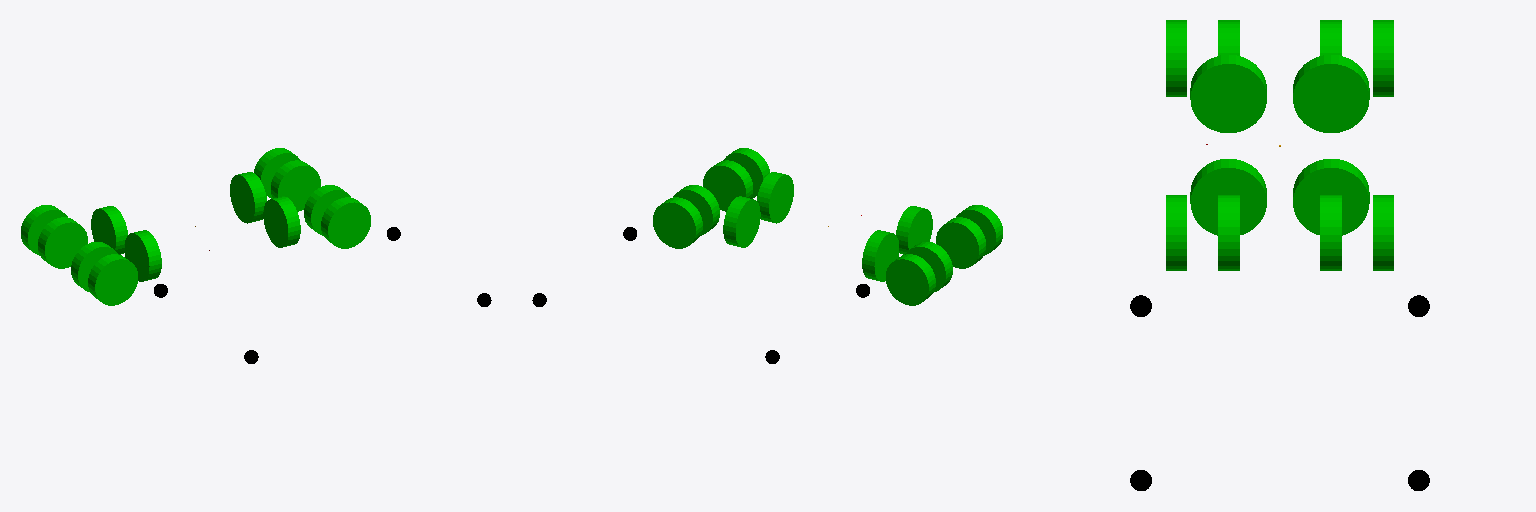
--- Facts derived from the render (not from the file) ---
3 views of the same robot in one strip: view 1: azimuth 30°, elevation 25°; view 2: azimuth 150°, elevation 25°; view 3: azimuth 270°, elevation 25° (orthographic).
Robot: go1 — 31 links, 30 joints (12 revolute, 18 fixed); root link base; default pose: joints at zero except 4 at the middle of their limits (FR_calf_joint = -1.85, FL_calf_joint = -1.85, RR_calf_joint = -1.85, RL_calf_joint = -1.85).
Links seen in each view (by area): view 1: FR_calf_rotor, RR_calf_rotor, RL_thigh_rotor, FL_thigh_rotor, FR_hip_rotor, FL_hip_rotor, RR_hip_rotor, RL_hip_rotor, RR_thigh_rotor, FR_thigh_rotor, RL_calf_rotor, FL_calf_rotor; view 2: FL_calf_rotor, RL_calf_rotor, RR_thigh_rotor, FR_thigh_rotor, FL_hip_rotor, FR_hip_rotor, RL_hip_rotor, RR_hip_rotor, RL_thigh_rotor, FL_thigh_rotor, RR_calf_rotor, FR_calf_rotor; view 3: RR_hip_rotor, RL_hip_rotor, FR_hip_rotor, FL_hip_rotor, FR_thigh_rotor, FL_thigh_rotor, RR_calf_rotor, RL_calf_rotor, FR_calf_rotor, FL_calf_rotor, RR_thigh_rotor, RL_thigh_rotor.
Boxes of the visible links, x1,y1,x2,y2 form: FR_calf_rotor: [321, 197, 370, 248]; RR_calf_rotor: [88, 254, 137, 305]; RL_thigh_rotor: [38, 217, 87, 268]; FL_thigh_rotor: [271, 160, 320, 211]; FR_hip_rotor: [263, 196, 300, 247]; FL_hip_rotor: [230, 172, 266, 223]; RR_hip_rotor: [125, 230, 161, 281]; RL_hip_rotor: [91, 206, 127, 254]; RR_thigh_rotor: [71, 242, 118, 292]; FR_thigh_rotor: [304, 185, 350, 235]; RL_calf_rotor: [21, 205, 67, 255]; FL_calf_rotor: [254, 148, 300, 198]; FL_calf_rotor: [653, 197, 702, 248]; RL_calf_rotor: [886, 254, 935, 305]; RR_thigh_rotor: [936, 217, 985, 268]; FR_thigh_rotor: [703, 160, 752, 211]; FL_hip_rotor: [723, 196, 760, 247]; FR_hip_rotor: [757, 172, 793, 223]; RL_hip_rotor: [862, 230, 898, 281]; RR_hip_rotor: [896, 206, 932, 254]; RL_thigh_rotor: [905, 242, 952, 292]; FL_thigh_rotor: [673, 185, 719, 235]; RR_calf_rotor: [956, 205, 1002, 255]; FR_calf_rotor: [723, 148, 769, 198]; RR_hip_rotor: [1190, 55, 1266, 132]; RL_hip_rotor: [1293, 55, 1369, 132]; FR_hip_rotor: [1190, 159, 1266, 235]; FL_hip_rotor: [1293, 159, 1369, 235]; FR_thigh_rotor: [1218, 195, 1239, 270]; FL_thigh_rotor: [1320, 195, 1341, 270]; RR_calf_rotor: [1166, 20, 1186, 96]; RL_calf_rotor: [1373, 20, 1393, 96]; FR_calf_rotor: [1166, 195, 1186, 270]; FL_calf_rotor: [1373, 195, 1393, 270]; RR_thigh_rotor: [1218, 20, 1239, 55]; RL_thigh_rotor: [1320, 20, 1341, 55].
Bounding box of the posed robot: 0.6257 × 0.2735 × 0.1986 m (x, y, z).
0 mesh visuals loaded from 5 distinct referenced files (none loaded); not drawn: 13 (reference not matched to a file when rendering).

robot.urdf — go1:
<?xml version="1.0" ?>
<robot name="go1" xmlns:xacro="http://www.ros.org/wiki/xacro">
  <material name="black">
    <color rgba="0.0 0.0 0.0 1.0"/>
  </material>
  <material name="blue">
    <color rgba="0.0 0.0 0.8 1.0"/>
  </material>
  <material name="green">
    <color rgba="0.0 0.8 0.0 1.0"/>
  </material>
  <material name="grey">
    <color rgba="0.2 0.2 0.2 1.0"/>
  </material>
  <material name="silver">
    <color rgba="0.9137254901960784 0.913725491960784 0.8470588235294118 1.0"/>
  </material>
  <material name="orange">
    <color rgba="1.0 0.4235294117647059 0.0392156862745098 1.0"/>
  </material>
  <material name="brown">
    <color rgba="0.8705882352941177 0.8117647058823529 0.7647058823529411 1.0"/>
  </material>
  <material name="red">
    <color rgba="0.8 0.0 0.0 1.0"/>
  </material>
  <material name="white">
    <color rgba="1.0 1.0 1.0 1.0"/>
  </material>

  <link name="base">
    <visual>
      <origin rpy="0 0 0" xyz="0 0 0"/>
      <geometry>
        <box size="0.001 0.001 0.001"/>
      </geometry>
    </visual>
  </link>
  <joint name="floating_base" type="fixed">
    <origin rpy="0 0 0" xyz="0 0 0"/>
    <parent link="base"/>
    <child link="trunk"/>
  </joint>
  <link name="trunk">
    <visual>
      <!-- <origin rpy="-1.57079632679 0 0" xyz="0 0 0"/> -->
      <origin rpy="0 0 0" xyz="0 0 0"/>
      <geometry>
        <mesh filename="../meshes/trunk.stl" scale="1 1 1"/>
      </geometry>
      <material name="silver"/>
    </visual>
    <collision>
      <origin rpy="0 0 0" xyz="0 0 0"/>
      <geometry>
        <box size="0.3762 0.0935 0.114"/>
      </geometry>
    </collision>
    <inertial>
      <origin rpy="0 0 0" xyz="0.0223 0.002 -0.0005"/>
      <mass value="5.204"/>
      <inertia ixx="0.0168128557" ixy="-0.0002296769" ixz="-0.0002945293" iyy="0.063009565" iyz="-4.18731e-05" izz="0.0716547275"/>
    </inertial>
  </link>
  <joint name="imu_joint" type="fixed">
    <parent link="trunk"/>
    <child link="imu_link"/>
    <origin rpy="0 0 0" xyz="-0.01592 -0.06659 -0.00617"/>
  </joint>
  <link name="imu_link">
    <inertial>
      <mass value="0.001"/>
      <origin rpy="0 0 0" xyz="0 0 0"/>
      <inertia ixx="0.0001" ixy="0" ixz="0" iyy="0.0001" iyz="0" izz="0.0001"/>
    </inertial>
    <visual>
      <origin rpy="0 0 0" xyz="0 0 0"/>
      <geometry>
        <box size="0.001 0.001 0.001"/>
      </geometry>
      <material name="red"/>
    </visual>
    <!-- <collision>
      <origin rpy="0 0 0" xyz="0 0 0"/>
      <geometry>
        <box size=".001 .001 .001"/>
      </geometry>
    </collision> -->
  </link>
  <joint name="FR_hip_joint" type="revolute">
    <origin rpy="0 0 0" xyz="0.1881 -0.04675 0"/>
    <parent link="trunk"/>
    <child link="FR_hip"/>
    <axis xyz="1 0 0"/>
    <dynamics damping="0.01" friction="0.2"/>
    <limit effort="23.7" lower="-0.863" upper="0.863" velocity="30.1"/>
  </joint>
  <joint name="FR_hip_rotor_joint" type="fixed">
    <origin rpy="0 0 0" xyz="0.11215 -0.04675 0"/>
    <parent link="trunk"/>
    <child link="FR_hip_rotor"/>
  </joint>
  <link name="FR_hip">
    <visual>
      <!-- <origin rpy="1.57079632679 0 0" xyz="0 0 0"/> -->
      <origin rpy="3.14159265358 0 0" xyz="0 0 0"/>
      <geometry>
        <mesh filename="../meshes/hip.stl" scale="1 1 1"/>
      </geometry>
      <material name="silver"/>
    </visual>
    <collision>
      <origin rpy="1.5707963267948966 0 0" xyz="0 -0.08 0"/>
      <geometry>
        <cylinder length="0.04" radius="0.046"/>
      </geometry>
    </collision>
    <inertial>
      <origin rpy="0 0 0" xyz="-0.005657 0.008752 -0.000102"/>
      <mass value="0.591"/>
      <inertia ixx="0.000334008405" ixy="1.0826066e-05" ixz="1.290732e-06" iyy="0.000619101213" iyz="-1.643194e-06" izz="0.00040057614"/>
    </inertial>
  </link>
  <link name="FR_hip_rotor">
    <visual>
      <origin rpy="0 1.5707963267948966 0" xyz="0 0 0"/>
      <geometry>
        <cylinder length="0.02" radius="0.035"/>
      </geometry>
      <material name="green"/>
    </visual>
    <!-- <collision>
      <origin rpy="0 1.5707963267948966 0" xyz="0 0 0"/>
      <geometry>
        <cylinder length="0.02" radius="0.035"/>
      </geometry>
    </collision> -->
    <inertial>
      <origin rpy="0 0 0" xyz="0.0 0.0 0.0"/>
      <mass value="0.089"/>
      <inertia ixx="0.000111842" ixy="0.0" ixz="0.0" iyy="5.9647e-05" iyz="0.0" izz="5.9647e-05"/>
    </inertial>
  </link>
  <joint name="FR_thigh_joint" type="revolute">
    <origin rpy="0 0 0" xyz="0 -0.08 0"/>
    <parent link="FR_hip"/>
    <child link="FR_thigh"/>
    <axis xyz="0 1 0"/>
    <dynamics damping="0.01" friction="0.2"/>
    <limit effort="23.7" lower="-0.686" upper="4.501" velocity="30.1"/>
  </joint>
  <joint name="FR_thigh_rotor_joint" type="fixed">
    <origin rpy="0 0 0" xyz="0.0 0.00015 0"/>
    <parent link="FR_hip"/>
    <child link="FR_thigh_rotor"/>
  </joint>
  <link name="FR_thigh">
    <visual>
      <!-- <origin rpy="-1.57079632679 0 0" xyz="0 0 0"/> -->
      <origin rpy="0 0 0" xyz="0 0 0"/>
      <geometry>
        <mesh filename="../meshes/thigh_mirror.stl" scale="1 1 1"/>
      </geometry>
      <material name="silver"/>
    </visual>
    <collision>
      <origin rpy="0 1.5707963267948966 0" xyz="0 0 -0.1065"/>
      <geometry>
        <box size="0.213 0.0245 0.034"/>
      </geometry>
    </collision>
    <inertial>
        <origin rpy="0 0 0" xyz="-0.003342 0.018054 -0.033451"/>
        <mass value="0.92"/>
        <inertia ixx="0.004431760472" ixy="-5.7496807e-05" ixz="-0.000218457134" iyy="0.004485671726" iyz="-0.000572001265" izz="0.000740309489"/>
    </inertial>
  </link>
  <link name="FR_thigh_rotor">
    <visual>
      <origin rpy="1.5707963267948966 0 0" xyz="0 0 0"/>
      <geometry>
        <cylinder length="0.02" radius="0.035"/>
      </geometry>
      <material name="green"/>
    </visual>
    <!-- <collision>
      <origin rpy="1.5707963267948966 0 0" xyz="0 0 0"/>
      <geometry>
        <cylinder length="0.02" radius="0.035"/>
      </geometry>
    </collision> -->
    <inertial>
      <origin rpy="0 0 0" xyz="0.0 0.0 0.0"/>
      <mass value="0.089"/>
      <inertia ixx="5.9647e-05" ixy="0.0" ixz="0.0" iyy="0.000111842" iyz="0.0" izz="5.9647e-05"/>
    </inertial>
  </link>
  <joint name="FR_calf_joint" type="revolute">
    <origin rpy="0 0 0" xyz="0 0 -0.213"/>
    <parent link="FR_thigh"/>
    <child link="FR_calf"/>
    <axis xyz="0 1 0"/>
    <dynamics damping="0.01" friction="0.2"/>
    <limit effort="35.55" lower="-2.818" upper="-0.888" velocity="20.06"/>
  </joint>
  <joint name="FR_calf_rotor_joint" type="fixed">
    <origin rpy="0 0 0" xyz="0.0 0.03235 0"/>
    <parent link="FR_thigh"/>
    <child link="FR_calf_rotor"/>
  </joint>
  <link name="FR_calf">
    <visual>
      <!-- <origin rpy="-1.57079632679 0 0" xyz="0 0 0"/> -->
      <origin rpy="0 0 0" xyz="0 0 0"/>
      <geometry>
        <mesh filename="../meshes/calf.stl" scale="1 1 1"/>
      </geometry>
      <material name="black"/>
    </visual>
    <collision>
      <origin rpy="0 1.5707963267948966 0" xyz="0 0 -0.1065"/>
      <geometry>
        <box size="0.213 0.016 0.016"/>
      </geometry>
    </collision>
    <inertial>
      <origin rpy="0 0 0" xyz="0.006197 0.001408 -0.116695"/>
      <mass value="0.135862"/>
      <inertia ixx="0.001088793059" ixy="-2.55679e-07" ixz="7.117814e-06" iyy="0.001100428748" iyz="2.077264e-06" izz="2.4787446e-05"/>
    </inertial>
  </link>
  <link name="FR_calf_rotor">
    <visual>
      <origin rpy="1.5707963267948966 0 0" xyz="0 0 0"/>
      <geometry>
        <cylinder length="0.02" radius="0.035"/>
      </geometry>
      <material name="green"/>
    </visual>
    <!-- <collision>
      <origin rpy="1.5707963267948966 0 0" xyz="0 0 0"/>
      <geometry>
        <cylinder length="0.02" radius="0.035"/>
      </geometry>
    </collision> -->
    <inertial>
      <origin rpy="0 0 0" xyz="0.0 0.0 0.0"/>
      <mass value="0.089"/>
      <inertia ixx="5.9647e-05" ixy="0.0" ixz="0.0" iyy="0.000111842" iyz="0.0" izz="5.9647e-05"/>
    </inertial>
  </link>
  <joint name="FR_foot_fixed" type="fixed" dont_collapse="true">
    <origin rpy="0 0 0" xyz="0 0 -0.213"/>
    <parent link="FR_calf"/>
    <child link="FR_foot"/>
  </joint>
  <link name="FR_foot">
    <visual>
      <origin rpy="0 0 0" xyz="0 0 0"/>
      <geometry>
        <sphere radius="0.01"/>
      </geometry>
      <material name="black"/>
    </visual>
    <collision>
      <origin rpy="0 0 0" xyz="0 0 0"/>
      <geometry>
        <sphere radius="0.02"/>
      </geometry>
    </collision>
    <inertial>
      <mass value="0.06"/>
      <inertia ixx="9.6e-06" ixy="0.0" ixz="0.0" iyy="9.6e-06" iyz="0.0" izz="9.6e-06"/>
    </inertial>
  </link>

  <joint name="FL_hip_joint" type="revolute">
    <origin rpy="0 0 0" xyz="0.1881 0.04675 0"/>
    <parent link="trunk"/>
    <child link="FL_hip"/>
    <axis xyz="1 0 0"/>
    <dynamics damping="0.01" friction="0.2"/>
    <limit effort="23.7" lower="-0.863" upper="0.863" velocity="30.1"/>
  </joint>
  <joint name="FL_hip_rotor_joint" type="fixed">
    <origin rpy="0 0 0" xyz="0.11215 0.04675 0"/>
    <parent link="trunk"/>
    <child link="FL_hip_rotor"/>
  </joint>
  <link name="FL_hip">
    <visual>
      <!-- <origin rpy="-1.57079632679 0 0" xyz="0 0 0"/> -->
      <origin rpy="0 0 0" xyz="0 0 0"/>
      <geometry>
        <mesh filename="../meshes/hip.stl" scale="1 1 1"/>
      </geometry>
      <material name="silver"/>
    </visual>
    <collision>
      <origin rpy="1.5707963267948966 0 0" xyz="0 0.08 0"/>
      <geometry>
        <cylinder length="0.04" radius="0.046"/>
      </geometry>
    </collision>
    <inertial>
      <origin rpy="0 0 0" xyz="-0.005657 -0.008752 -0.000102"/>
      <mass value="0.591"/>
      <inertia ixx="0.000334008405" ixy="-1.0826066e-05" ixz="1.290732e-06" iyy="0.000619101213" iyz="1.643194e-06" izz="0.00040057614"/>
    </inertial>
  </link>
  <link name="FL_hip_rotor">
    <visual>
      <origin rpy="0 1.5707963267948966 0" xyz="0 0 0"/>
      <geometry>
        <cylinder length="0.02" radius="0.035"/>
      </geometry>
      <material name="green"/>
    </visual>
    <!-- <collision>
      <origin rpy="0 1.5707963267948966 0" xyz="0 0 0"/>
      <geometry>
        <cylinder length="0.02" radius="0.035"/>
      </geometry>
    </collision> -->
    <inertial>
      <origin rpy="0 0 0" xyz="0.0 0.0 0.0"/>
      <mass value="0.089"/>
      <inertia ixx="0.000111842" ixy="0.0" ixz="0.0" iyy="5.9647e-05" iyz="0.0" izz="5.9647e-05"/>
    </inertial>
  </link>
  <joint name="FL_thigh_joint" type="revolute">
    <origin rpy="0 0 0" xyz="0 0.08 0"/>
    <parent link="FL_hip"/>
    <child link="FL_thigh"/>
    <axis xyz="0 1 0"/>
    <dynamics damping="0.01" friction="0.2"/>
    <limit effort="23.7" lower="-0.686" upper="4.501" velocity="30.1"/>
  </joint>
  <joint name="FL_thigh_rotor_joint" type="fixed">
    <origin rpy="0 0 0" xyz="0.0 -0.00015 0"/>
    <parent link="FL_hip"/>
    <child link="FL_thigh_rotor"/>
  </joint>
  <link name="FL_thigh">
    <visual>
      <!-- <origin rpy="-1.57079632679 0 0" xyz="0 0 0"/> -->
      <origin rpy="0 0 0" xyz="0 0 0"/>
      <geometry>
        <mesh filename="../meshes/thigh.stl" scale="1 1 1"/>
      </geometry>
      <material name="silver"/>
    </visual>
    <collision>
      <origin rpy="0 1.5707963267948966 0" xyz="0 0 -0.1065"/>
      <geometry>
        <box size="0.213 0.0245 0.034"/>
      </geometry>
    </collision>
    <inertial>
        <origin rpy="0 0 0" xyz="-0.003342 -0.018054 -0.033451"/>
        <mass value="0.92"/>
        <inertia ixx="0.004431760472" ixy="5.7496807e-05" ixz="-0.000218457134" iyy="0.004485671726" iyz="0.000572001265" izz="0.000740309489"/>
    </inertial>
  </link>
  <link name="FL_thigh_rotor">
    <visual>
      <origin rpy="1.5707963267948966 0 0" xyz="0 0 0"/>
      <geometry>
        <cylinder length="0.02" radius="0.035"/>
      </geometry>
      <material name="green"/>
    </visual>
    <!-- <collision>
      <origin rpy="1.5707963267948966 0 0" xyz="0 0 0"/>
      <geometry>
        <cylinder length="0.02" radius="0.035"/>
      </geometry>
    </collision> -->
    <inertial>
      <origin rpy="0 0 0" xyz="0.0 0.0 0.0"/>
      <mass value="0.089"/>
      <inertia ixx="5.9647e-05" ixy="0.0" ixz="0.0" iyy="0.000111842" iyz="0.0" izz="5.9647e-05"/>
    </inertial>
  </link>
  <joint name="FL_calf_joint" type="revolute">
    <origin rpy="0 0 0" xyz="0 0 -0.213"/>
    <parent link="FL_thigh"/>
    <child link="FL_calf"/>
    <axis xyz="0 1 0"/>
    <dynamics damping="0.01" friction="0.2"/>
    <limit effort="35.55" lower="-2.818" upper="-0.888" velocity="20.06"/>
  </joint>
  <joint name="FL_calf_rotor_joint" type="fixed">
    <origin rpy="0 0 0" xyz="0.0 -0.03235 0"/>
    <parent link="FL_thigh"/>
    <child link="FL_calf_rotor"/>
  </joint>
  <link name="FL_calf">
    <visual>
      <!-- <origin rpy="-1.57079632679 0 0" xyz="0 0 0"/> -->
      <origin rpy="0 0 0" xyz="0 0 0"/>
      <geometry>
        <mesh filename="../meshes/calf.stl" scale="1 1 1"/>
      </geometry>
      <material name="silver"/>
    </visual>
    <collision>
      <origin rpy="0 1.5707963267948966 0" xyz="0 0 -0.1065"/>
      <geometry>
        <box size="0.213 0.016 0.016"/>
      </geometry>
    </collision>
    <inertial>
      <origin rpy="0 0 0" xyz="0.006197 0.001408 -0.116695"/>
      <mass value="0.135862"/>
      <inertia ixx="0.001088793059" ixy="-2.55679e-07" ixz="7.117814e-06" iyy="0.001100428748" iyz="2.077264e-06" izz="2.4787446e-05"/>
    </inertial>
  </link>
  <link name="FL_calf_rotor">
    <visual>
      <origin rpy="1.5707963267948966 0 0" xyz="0 0 0"/>
      <geometry>
        <cylinder length="0.02" radius="0.035"/>
      </geometry>
      <material name="green"/>
    </visual>
    <!-- <collision>
      <origin rpy="1.5707963267948966 0 0" xyz="0 0 0"/>
      <geometry>
        <cylinder length="0.02" radius="0.035"/>
      </geometry>
    </collision> -->
    <inertial>
      <origin rpy="0 0 0" xyz="0.0 0.0 0.0"/>
      <mass value="0.089"/>
      <inertia ixx="5.9647e-05" ixy="0.0" ixz="0.0" iyy="0.000111842" iyz="0.0" izz="5.9647e-05"/>
    </inertial>
  </link>
  <joint name="FL_foot_fixed" type="fixed" dont_collapse="true">
    <origin rpy="0 0 0" xyz="0 0 -0.213"/>
    <parent link="FL_calf"/>
    <child link="FL_foot"/>
  </joint>
  <link name="FL_foot">
    <visual>
      <origin rpy="0 0 0" xyz="0 0 0"/>
      <geometry>
        <sphere radius="0.01"/>
      </geometry>
      <material name="black"/>
    </visual>
    <collision>
      <origin rpy="0 0 0" xyz="0 0 0"/>
      <geometry>
        <sphere radius="0.02"/>
      </geometry>
    </collision>
    <inertial>
      <mass value="0.06"/>
      <inertia ixx="9.6e-06" ixy="0.0" ixz="0.0" iyy="9.6e-06" iyz="0.0" izz="9.6e-06"/>
    </inertial>
  </link>

  <joint name="RR_hip_joint" type="revolute">
    <origin rpy="0 0 0" xyz="-0.1881 -0.04675 0"/>
    <parent link="trunk"/>
    <child link="RR_hip"/>
    <axis xyz="1 0 0"/>
    <dynamics damping="0.01" friction="0.2"/>
    <limit effort="23.7" lower="-0.863" upper="0.863" velocity="30.1"/>
  </joint>
  <joint name="RR_hip_rotor_joint" type="fixed">
    <origin rpy="0 0 0" xyz="-0.11215 -0.04675 0"/>
    <parent link="trunk"/>
    <child link="RR_hip_rotor"/>
  </joint>
  <link name="RR_hip">
    <visual>
      <!-- <origin rpy="1.57079632679 3.14159265359 0" xyz="0 0 0"/> -->
      <origin rpy="3.14159265358 0 0" xyz="0 0 0"/>
      <geometry>
        <mesh filename="../meshes/hip.stl" scale="1 1 1"/>
      </geometry>
      <material name="silver"/>
    </visual>
    <collision>
      <origin rpy="1.5707963267948966 0 0" xyz="0 -0.08 0"/>
      <geometry>
        <cylinder length="0.04" radius="0.046"/>
      </geometry>
    </collision>
    <inertial>
      <origin rpy="0 0 0" xyz="0.005657 0.008752 -0.000102"/>
      <mass value="0.591"/>
      <inertia ixx="0.000334008405" ixy="-1.0826066e-05" ixz="-1.290732e-06" iyy="0.000619101213" iyz="-1.643194e-06" izz="0.00040057614"/>
    </inertial>
  </link>
  <link name="RR_hip_rotor">
    <visual>
      <origin rpy="0 1.5707963267948966 0" xyz="0 0 0"/>
      <geometry>
        <cylinder length="0.02" radius="0.035"/>
      </geometry>
      <material name="green"/>
    </visual>
    <!-- <collision>
      <origin rpy="0 1.5707963267948966 0" xyz="0 0 0"/>
      <geometry>
        <cylinder length="0.02" radius="0.035"/>
      </geometry>
    </collision> -->
    <inertial>
      <origin rpy="0 0 0" xyz="0.0 0.0 0.0"/>
      <mass value="0.089"/>
      <inertia ixx="0.000111842" ixy="0.0" ixz="0.0" iyy="5.9647e-05" iyz="0.0" izz="5.9647e-05"/>
    </inertial>
  </link>
  <joint name="RR_thigh_joint" type="revolute">
    <origin rpy="0 0 0" xyz="0 -0.08 0"/>
    <parent link="RR_hip"/>
    <child link="RR_thigh"/>
    <axis xyz="0 1 0"/>
    <dynamics damping="0.01" friction="0.2"/>
    <limit effort="23.7" lower="-0.686" upper="4.501" velocity="30.1"/>
  </joint>
  <joint name="RR_thigh_rotor_joint" type="fixed">
    <origin rpy="0 0 0" xyz="0.0 0.00015 0"/>
    <parent link="RR_hip"/>
    <child link="RR_thigh_rotor"/>
  </joint>
  <link name="RR_thigh">
    <visual>
      <!-- <origin rpy="-1.57079632679 0 0" xyz="0 0 0"/> -->
      <origin rpy="0 0 0" xyz="0 0 0"/>
      <geometry>
        <mesh filename="../meshes/thigh_mirror.stl" scale="1 1 1"/>
      </geometry>
      <material name="silver"/>
    </visual>
    <collision>
      <origin rpy="0 1.5707963267948966 0" xyz="0 0 -0.1065"/>
      <geometry>
        <box size="0.213 0.0245 0.034"/>
      </geometry>
    </collision>
    <inertial>
        <origin rpy="0 0 0" xyz="-0.003342 0.018054 -0.033451"/>
        <mass value="0.92"/>
        <inertia ixx="0.004431760472" ixy="-5.7496807e-05" ixz="-0.000218457134" iyy="0.004485671726" iyz="-0.000572001265" izz="0.000740309489"/>
    </inertial>
  </link>
  <link name="RR_thigh_rotor">
    <visual>
      <origin rpy="1.5707963267948966 0 0" xyz="0 0 0"/>
      <geometry>
        <cylinder length="0.02" radius="0.035"/>
      </geometry>
      <material name="green"/>
    </visual>
    <!-- <collision>
      <origin rpy="1.5707963267948966 0 0" xyz="0 0 0"/>
      <geometry>
        <cylinder length="0.02" radius="0.035"/>
      </geometry>
    </collision> -->
    <inertial>
      <origin rpy="0 0 0" xyz="0.0 0.0 0.0"/>
      <mass value="0.089"/>
      <inertia ixx="5.9647e-05" ixy="0.0" ixz="0.0" iyy="0.000111842" iyz="0.0" izz="5.9647e-05"/>
    </inertial>
  </link>
  <joint name="RR_calf_joint" type="revolute">
    <origin rpy="0 0 0" xyz="0 0 -0.213"/>
    <parent link="RR_thigh"/>
    <child link="RR_calf"/>
    <axis xyz="0 1 0"/>
    <dynamics damping="0.01" friction="0.2"/>
    <limit effort="35.55" lower="-2.818" upper="-0.888" velocity="20.06"/>
  </joint>
  <joint name="RR_calf_rotor_joint" type="fixed">
    <origin rpy="0 0 0" xyz="0.0 0.03235 0"/>
    <parent link="RR_thigh"/>
    <child link="RR_calf_rotor"/>
  </joint>
  <link name="RR_calf">
    <visual>
      <!-- <origin rpy="-1.57079632679 0 0" xyz="0 0 0"/> -->
      <origin rpy="0 0 0" xyz="0 0 0"/>
      <geometry>
        <mesh filename="../meshes/calf.stl" scale="1 1 1"/>
      </geometry>
      <material name="black"/>
    </visual>
    <collision>
      <origin rpy="0 1.5707963267948966 0" xyz="0 0 -0.1065"/>
      <geometry>
        <box size="0.213 0.016 0.016"/>
      </geometry>
    </collision>
    <inertial>
      <origin rpy="0 0 0" xyz="0.006197 0.001408 -0.116695"/>
      <mass value="0.135862"/>
      <inertia ixx="0.001088793059" ixy="-2.55679e-07" ixz="7.117814e-06" iyy="0.001100428748" iyz="2.077264e-06" izz="2.4787446e-05"/>
    </inertial>
  </link>
  <link name="RR_calf_rotor">
    <visual>
      <origin rpy="1.5707963267948966 0 0" xyz="0 0 0"/>
      <geometry>
        <cylinder length="0.02" radius="0.035"/>
      </geometry>
      <material name="green"/>
    </visual>
    <!-- <collision>
      <origin rpy="1.5707963267948966 0 0" xyz="0 0 0"/>
      <geometry>
        <cylinder length="0.02" radius="0.035"/>
      </geometry>
    </collision> -->
    <inertial>
      <origin rpy="0 0 0" xyz="0.0 0.0 0.0"/>
      <mass value="0.089"/>
      <inertia ixx="5.9647e-05" ixy="0.0" ixz="0.0" iyy="0.000111842" iyz="0.0" izz="5.9647e-05"/>
    </inertial>
  </link>
  <joint name="RR_foot_fixed" type="fixed" dont_collapse="true">
    <origin rpy="0 0 0" xyz="0 0 -0.213"/>
    <parent link="RR_calf"/>
    <child link="RR_foot"/>
  </joint>
  <link name="RR_foot">
    <visual>
      <origin rpy="0 0 0" xyz="0 0 0"/>
      <geometry>
        <sphere radius="0.01"/>
      </geometry>
      <material name="black"/>
    </visual>
    <collision>
      <origin rpy="0 0 0" xyz="0 0 0"/>
      <geometry>
        <sphere radius="0.02"/>
      </geometry>
    </collision>
    <inertial>
      <mass value="0.06"/>
      <inertia ixx="9.6e-06" ixy="0.0" ixz="0.0" iyy="9.6e-06" iyz="0.0" izz="9.6e-06"/>
    </inertial>
  </link>

  <joint name="RL_hip_joint" type="revolute">
    <origin rpy="0 0 0" xyz="-0.1881 0.04675 0"/>
    <parent link="trunk"/>
    <child link="RL_hip"/>
    <axis xyz="1 0 0"/>
    <dynamics damping="0.01" friction="0.2"/>
    <limit effort="23.7" lower="-0.863" upper="0.863" velocity="30.1"/>
  </joint>
  <joint name="RL_hip_rotor_joint" type="fixed">
    <origin rpy="0 0 0" xyz="-0.11215 0.04675 0"/>
    <parent link="trunk"/>
    <child link="RL_hip_rotor"/>
  </joint>
  <link name="RL_hip">
    <visual>
      <!-- <origin rpy="-1.57079632679 3.14159265359 0" xyz="0 0 0"/> -->
      <origin rpy="0 0 0" xyz="0 0 0"/>
      <geometry>
        <mesh filename="../meshes/hip.stl" scale="1 1 1"/>
      </geometry>
      <material name="silver"/>
    </visual>
    <collision>
      <origin rpy="1.5707963267948966 0 0" xyz="0 0.08 0"/>
      <geometry>
        <cylinder length="0.04" radius="0.046"/>
      </geometry>
    </collision>
    <inertial>
      <origin rpy="0 0 0" xyz="0.005657 -0.008752 -0.000102"/>
      <mass value="0.591"/>
      <inertia ixx="0.000334008405" ixy="1.0826066e-05" ixz="-1.290732e-06" iyy="0.000619101213" iyz="1.643194e-06" izz="0.00040057614"/>
    </inertial>
  </link>
  <link name="RL_hip_rotor">
    <visual>
      <origin rpy="0 1.5707963267948966 0" xyz="0 0 0"/>
      <geometry>
        <cylinder length="0.02" radius="0.035"/>
      </geometry>
      <material name="green"/>
    </visual>
    <!-- <collision>
      <origin rpy="0 1.5707963267948966 0" xyz="0 0 0"/>
      <geometry>
        <cylinder length="0.02" radius="0.035"/>
      </geometry>
    </collision> -->
    <inertial>
      <origin rpy="0 0 0" xyz="0.0 0.0 0.0"/>
      <mass value="0.089"/>
      <inertia ixx="0.000111842" ixy="0.0" ixz="0.0" iyy="5.9647e-05" iyz="0.0" izz="5.9647e-05"/>
    </inertial>
  </link>
  <joint name="RL_thigh_joint" type="revolute">
    <origin rpy="0 0 0" xyz="0 0.08 0"/>
    <parent link="RL_hip"/>
    <child link="RL_thigh"/>
    <axis xyz="0 1 0"/>
    <dynamics damping="0.01" friction="0.2"/>
    <limit effort="23.7" lower="-0.686" upper="4.501" velocity="30.1"/>
  </joint>
  <joint name="RL_thigh_rotor_joint" type="fixed">
    <origin rpy="0 0 0" xyz="0.0 -0.00015 0"/>
    <parent link="RL_hip"/>
    <child link="RL_thigh_rotor"/>
  </joint>
  <link name="RL_thigh">
    <visual>
      <!-- <origin rpy="-1.57079632679 0 0" xyz="0 0 0"/> -->
      <origin rpy="0 0 0" xyz="0 0 0"/>
      <geometry>
        <mesh filename="../meshes/thigh.stl" scale="1 1 1"/>
      </geometry>
      <material name="silver"/>
    </visual>
    <collision>
      <origin rpy="0 1.5707963267948966 0" xyz="0 0 -0.1065"/>
      <geometry>
        <box size="0.213 0.0245 0.034"/>
      </geometry>
    </collision>
    <inertial>
        <origin rpy="0 0 0" xyz="-0.003342 -0.018054 -0.033451"/>
        <mass value="0.92"/>
        <inertia ixx="0.004431760472" ixy="5.7496807e-05" ixz="-0.000218457134" iyy="0.004485671726" iyz="0.000572001265" izz="0.000740309489"/>
    </inertial>
  </link>
  <link name="RL_thigh_rotor">
    <visual>
      <origin rpy="1.5707963267948966 0 0" xyz="0 0 0"/>
      <geometry>
        <cylinder length="0.02" radius="0.035"/>
      </geometry>
      <material name="green"/>
    </visual>
    <!-- <collision>
      <origin rpy="1.5707963267948966 0 0" xyz="0 0 0"/>
      <geometry>
        <cylinder length="0.02" radius="0.035"/>
      </geometry>
    </collision> -->
    <inertial>
      <origin rpy="0 0 0" xyz="0.0 0.0 0.0"/>
      <mass value="0.089"/>
      <inertia ixx="5.9647e-05" ixy="0.0" ixz="0.0" iyy="0.000111842" iyz="0.0" izz="5.9647e-05"/>
    </inertial>
  </link>
  <joint name="RL_calf_joint" type="revolute">
    <origin rpy="0 0 0" xyz="0 0 -0.213"/>
    <parent link="RL_thigh"/>
    <child link="RL_calf"/>
    <axis xyz="0 1 0"/>
    <dynamics damping="0.01" friction="0.2"/>
    <limit effort="35.55" lower="-2.818" upper="-0.888" velocity="20.06"/>
  </joint>
  <joint name="RL_calf_rotor_joint" type="fixed">
    <origin rpy="0 0 0" xyz="0.0 -0.03235 0"/>
    <parent link="RL_thigh"/>
    <child link="RL_calf_rotor"/>
  </joint>
  <link name="RL_calf">
    <visual>
      <!-- <origin rpy="-1.57079632679 0 0" xyz="0 0 0"/> -->
      <origin rpy="0 0 0" xyz="0 0 0"/>
      <geometry>
        <mesh filename="../meshes/calf.stl" scale="1 1 1"/>
      </geometry>
      <material name="black"/>
    </visual>
    <collision>
      <origin rpy="0 1.5707963267948966 0" xyz="0 0 -0.1065"/>
      <geometry>
        <box size="0.213 0.016 0.016"/>
      </geometry>
    </collision>
    <inertial>
        <origin rpy="0 0 0" xyz="0.006197 0.001408 -0.116695"/>
        <mass value="0.135862"/>
        <inertia ixx="0.001088793059" ixy="-2.55679e-07" ixz="7.117814e-06" iyy="0.001100428748" iyz="2.077264e-06" izz="2.4787446e-05"/>
    </inertial>
  </link>
  <link name="RL_calf_rotor">
    <visual>
      <origin rpy="1.5707963267948966 0 0" xyz="0 0 0"/>
      <geometry>
        <cylinder length="0.02" radius="0.035"/>
      </geometry>
      <material name="green"/>
    </visual>
    <!-- <collision>
      <origin rpy="1.5707963267948966 0 0" xyz="0 0 0"/>
      <geometry>
        <cylinder length="0.02" radius="0.035"/>
      </geometry>
    </collision> -->
    <inertial>
      <origin rpy="0 0 0" xyz="0.0 0.0 0.0"/>
      <mass value="0.089"/>
      <inertia ixx="5.9647e-05" ixy="0.0" ixz="0.0" iyy="0.000111842" iyz="0.0" izz="5.9647e-05"/>
    </inertial>
  </link>
  <joint name="RL_foot_fixed" type="fixed" dont_collapse="true">
    <origin rpy="0 0 0" xyz="0 0 -0.213"/>
    <parent link="RL_calf"/>
    <child link="RL_foot"/>
  </joint>
  <link name="RL_foot">
    <visual>
      <origin rpy="0 0 0" xyz="0 0 0"/>
      <geometry>
        <sphere radius="0.01"/>
      </geometry>
      <material name="black"/>
    </visual>
    <collision>
      <origin rpy="0 0 0" xyz="0 0 0"/>
      <geometry>
        <sphere radius="0.02"/>
      </geometry>
    </collision>
    <inertial>
      <mass value="0.06"/>
      <inertia ixx="9.6e-06" ixy="0.0" ixz="0.0" iyy="9.6e-06" iyz="0.0" izz="9.6e-06"/>
    </inertial>
  </link>
 </robot>
